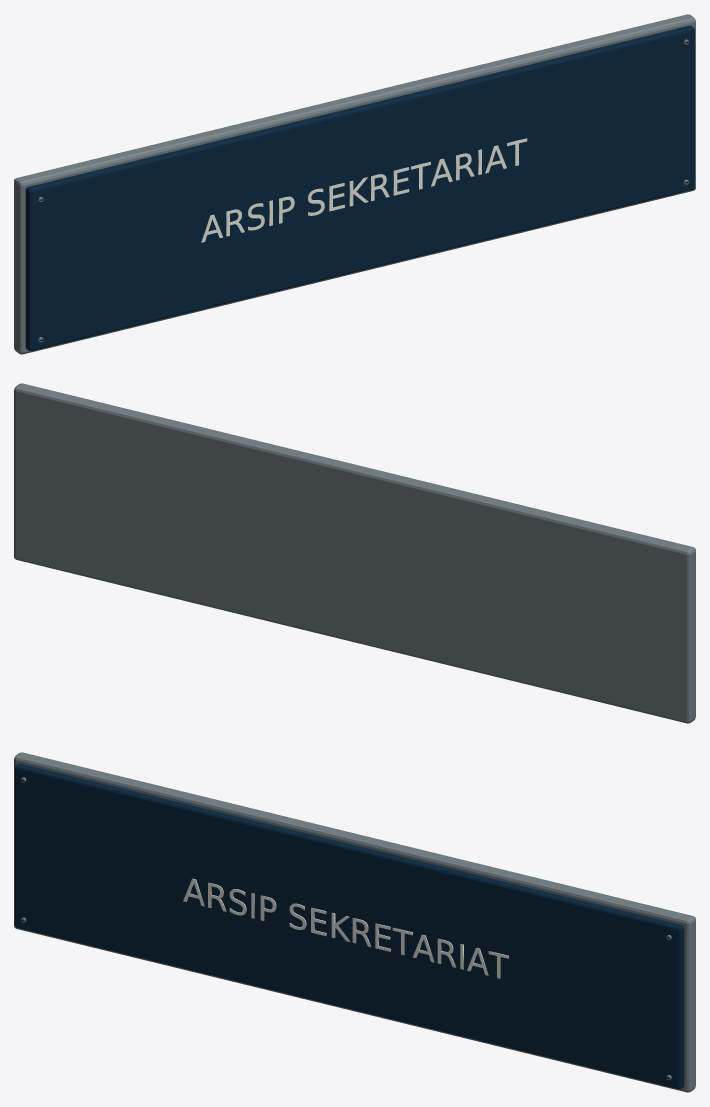
File: OAA_Papan_Ruang_Arsip_Sekretariat.fbx
3 views of the same model, one above another, from view 1: azimuth 30°, elevation 25°; view 2: azimuth 150°, elevation 25°; view 3: azimuth 330°, elevation 25° (orthographic).
Visible parts, largest first — view 1: Body; view 2: Body; view 3: Body.
Boxes of the visible parts, <box> form: Body: <box>14,14,695,354</box>; Body: <box>14,383,695,723</box>; Body: <box>14,752,695,1092</box>.
Size of the model in its own units: 0.9 by 0.22 by 0.0312.
